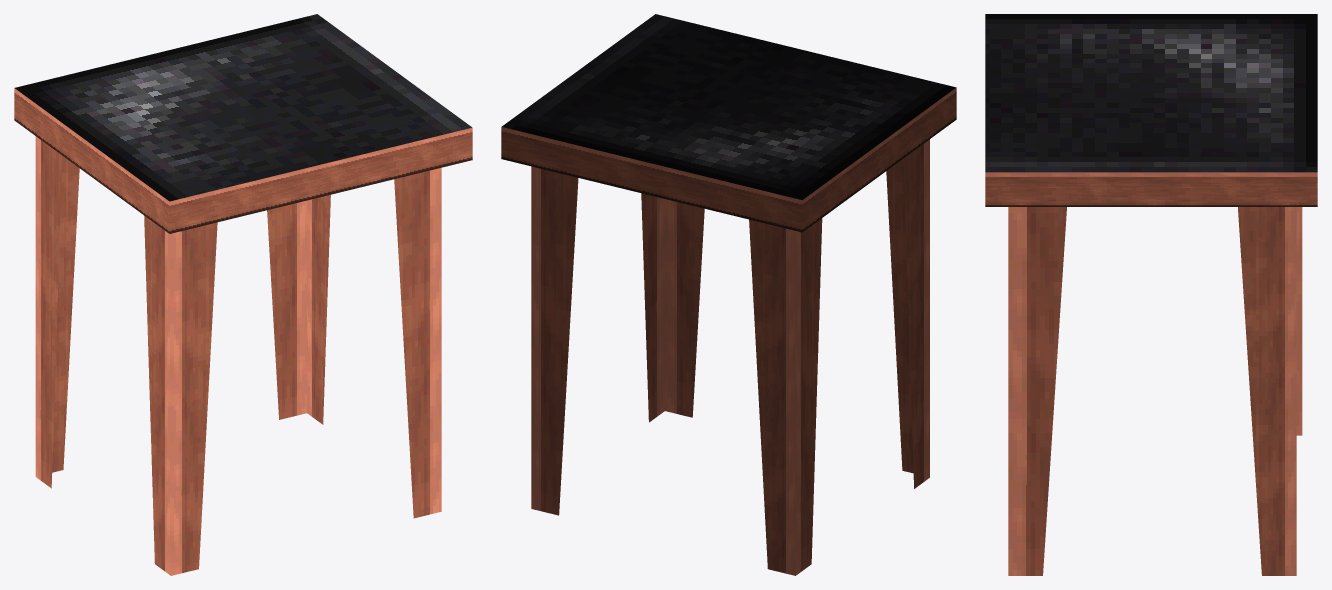
The model's file is Pstool1Z.obj.
3 renders of one model, left to right at view 1: azimuth 30°, elevation 25°; view 2: azimuth 150°, elevation 25°; view 3: azimuth 270°, elevation 25°, orthographic. The views are drawn at different scales.
Size of the model in its own units: 390 by 476 by 346.
Materials: 2 (2 with a texture image).
